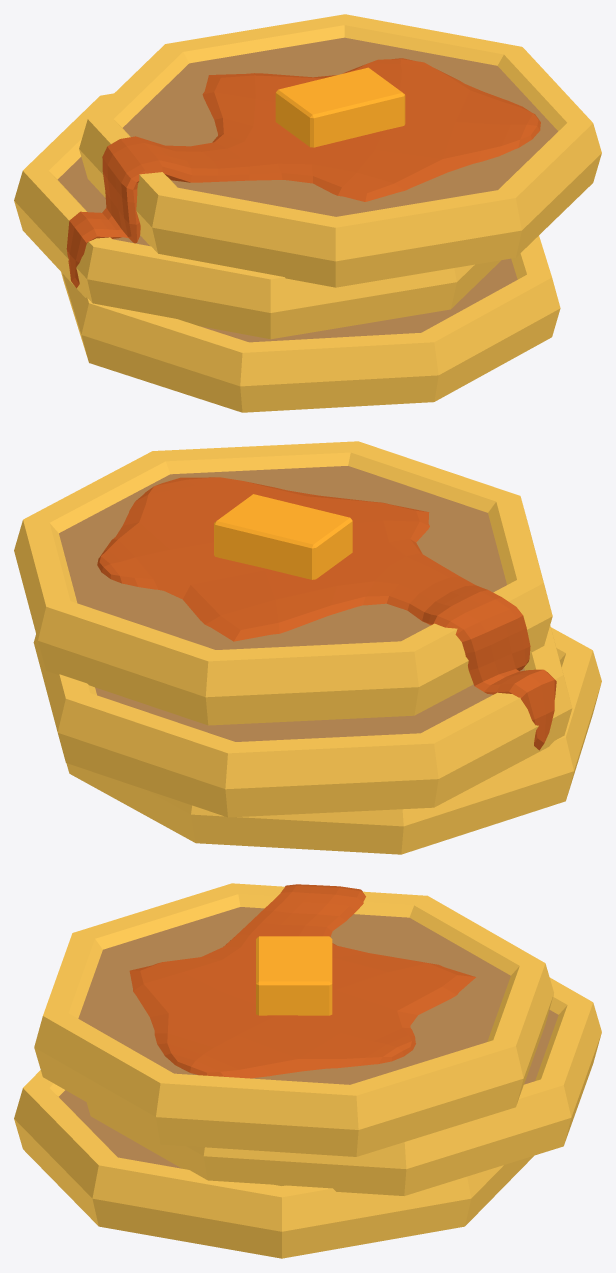
Rendered from Pancakes_Stack.glb.
3 views of the same model, one above another, from view 1: azimuth 30°, elevation 25°; view 2: azimuth 150°, elevation 25°; view 3: azimuth 270°, elevation 25° (orthographic). The views are drawn at different scales.
Parts seen in each view (by area): view 1: Pancakes_Stack; view 2: Pancakes_Stack; view 3: Pancakes_Stack.
Part boxes in pixels (box(x1,y1,x2,y2)): Pancakes_Stack: box(14, 14, 601, 412); Pancakes_Stack: box(14, 441, 601, 854); Pancakes_Stack: box(14, 883, 601, 1258).
Size of the model in its own units: 158 by 63.74 by 162.
